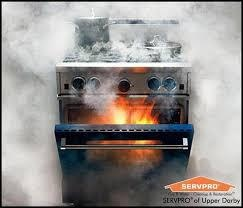fire: (90, 91, 160, 127)
